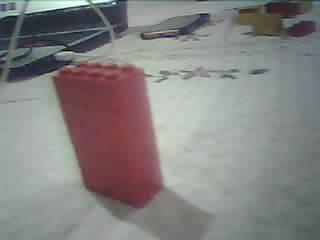lego: (50, 59, 165, 211), (250, 13, 281, 37), (285, 18, 318, 39), (266, 1, 310, 15), (237, 4, 259, 25)
